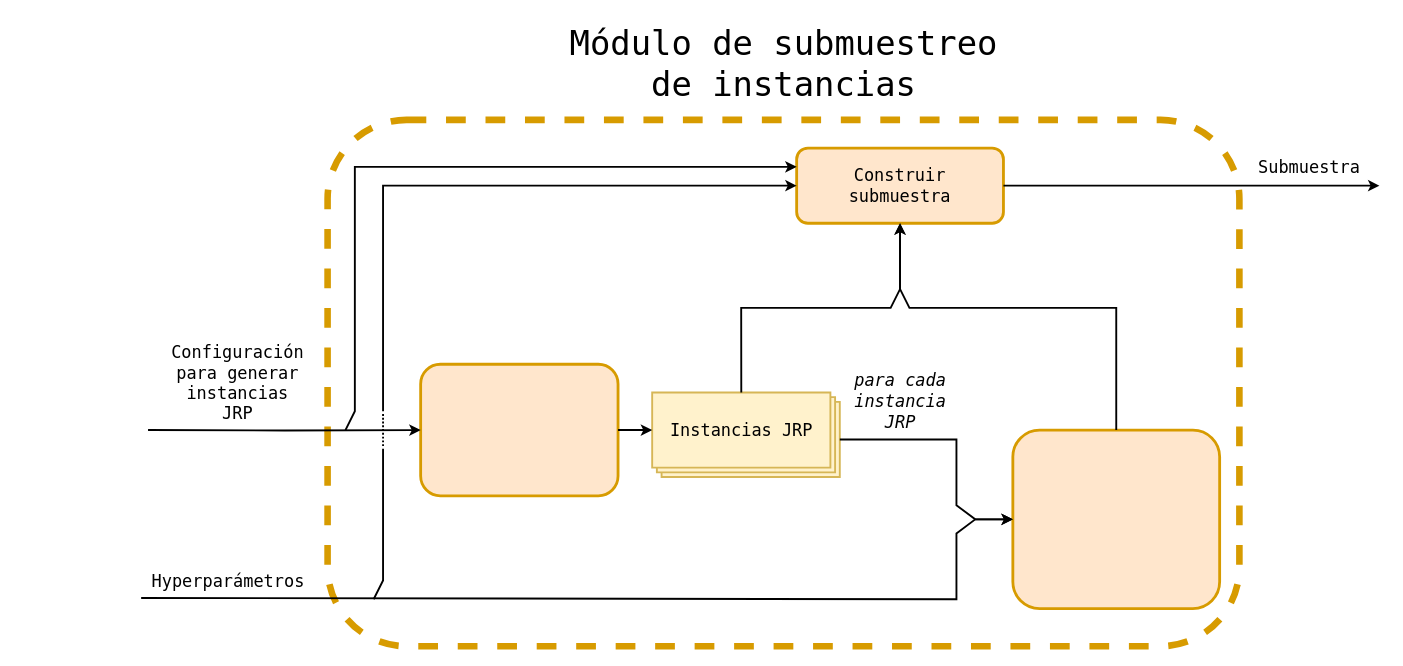
The diagram is 1403 pixels wide and 666 high, and some of its shapes have lost their labels. The centre of each missing label's shape, as x and y in pixels:
"Analizador de rendimiento algorítmico" belongs at point (1116, 519).
"Generar aleatoriamente N instancias JRP" belongs at point (519, 429).
